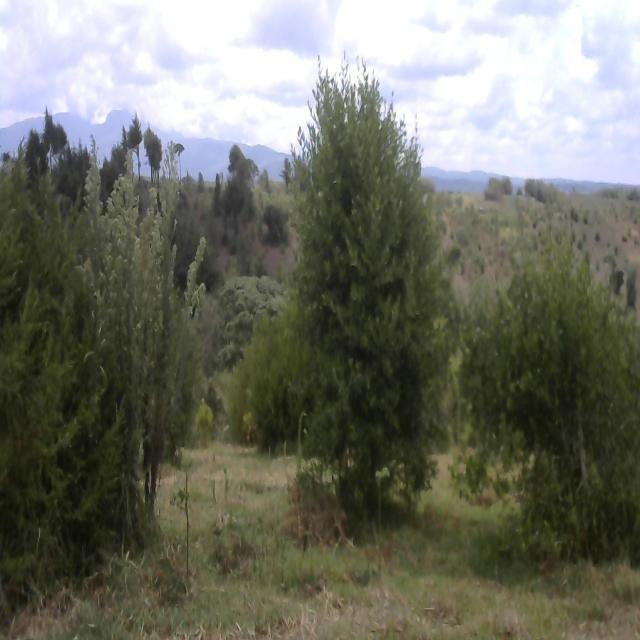Juniperus procesera: (1, 157, 130, 596), (223, 317, 314, 443), (40, 105, 64, 169), (125, 115, 146, 184)
Olea europea -africana-: (269, 48, 454, 523), (477, 240, 640, 539)
